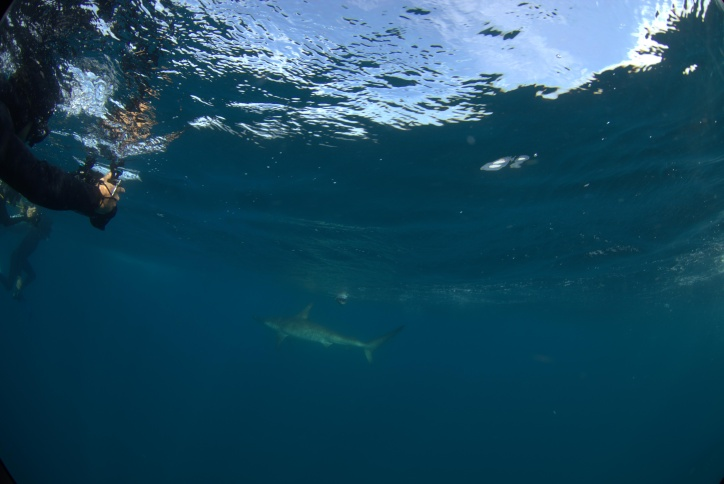Hammer: (251, 288, 422, 380)
